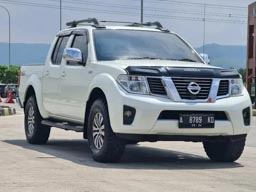plat: (178, 116, 215, 123)
